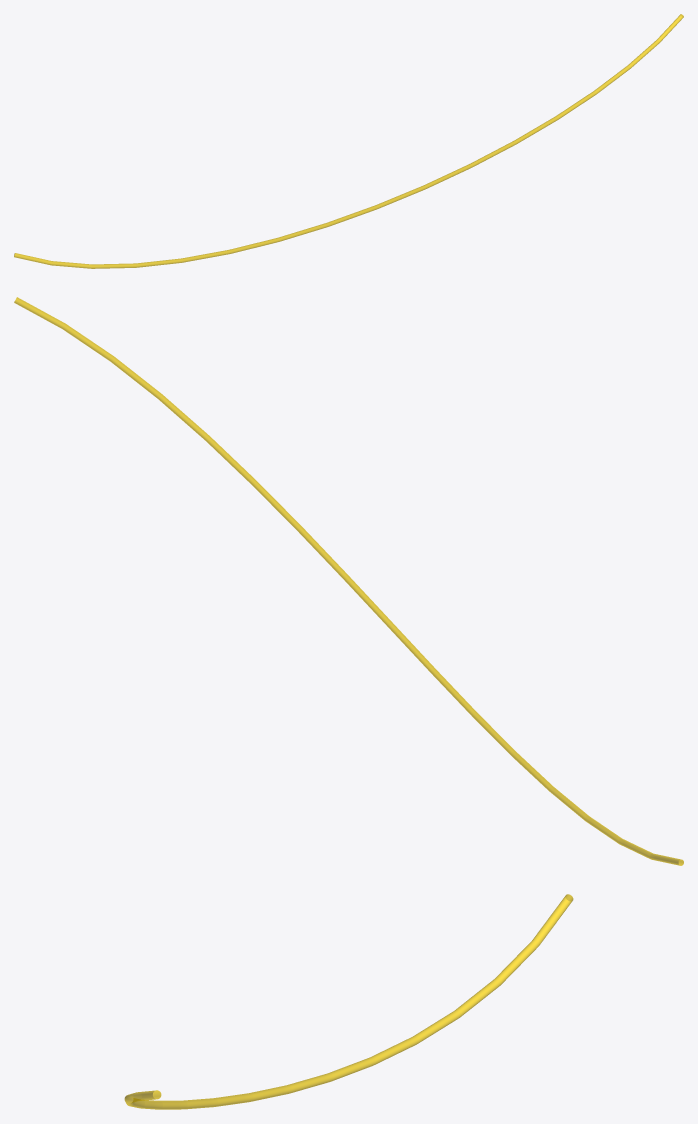
The model's file is Event_75125125_track_100.fbx.
3 views of the same model, one above another, from view 1: azimuth 30°, elevation 25°; view 2: azimuth 150°, elevation 25°; view 3: azimuth 270°, elevation 25° (orthographic). The views are drawn at different scales.
Parts seen in each view (by area): view 1: Model; view 2: Model; view 3: Model.
Part boxes in pixels (bbox=[...]): Model: bbox=[14, 14, 683, 268]; Model: bbox=[14, 297, 683, 865]; Model: bbox=[124, 894, 573, 1109].
Size of the model in its own units: 5.84 by 1.91 by 2.
